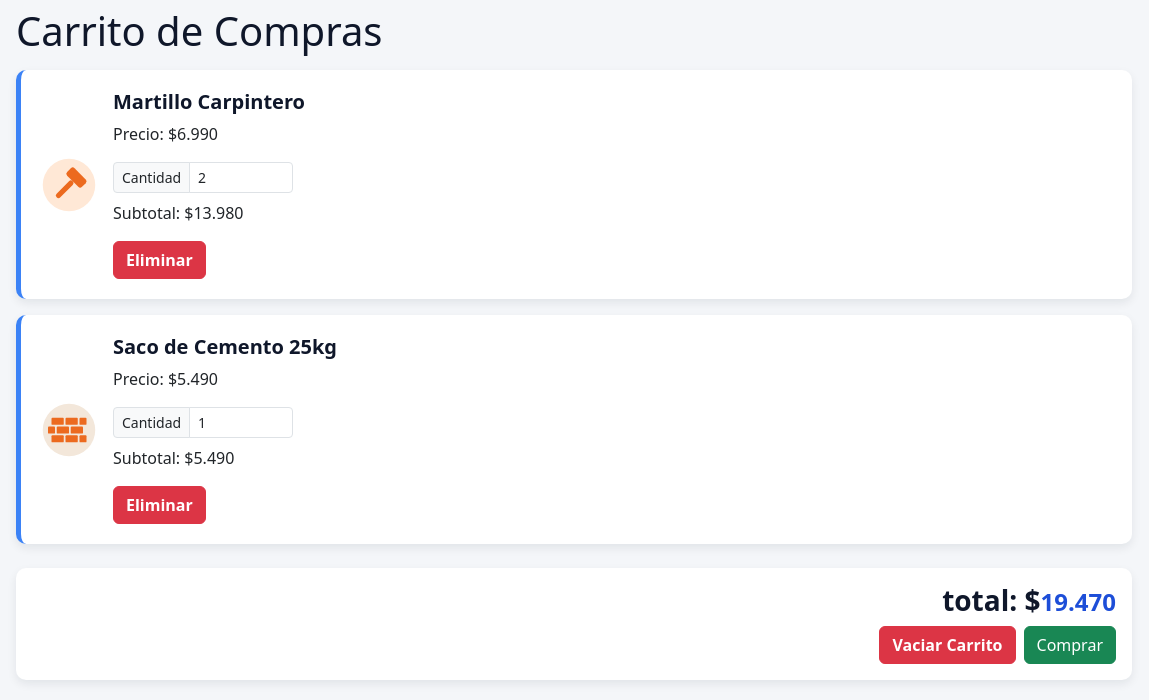
Carrito › vaciar el carrito muestra el mensaje de carrito vacío y borra lo guardado
What coordinates should you click on to do the following:
click the button "Vaciar Carrito"
I would click on:
 (948, 645)
Its box is [880,626,1016,664].
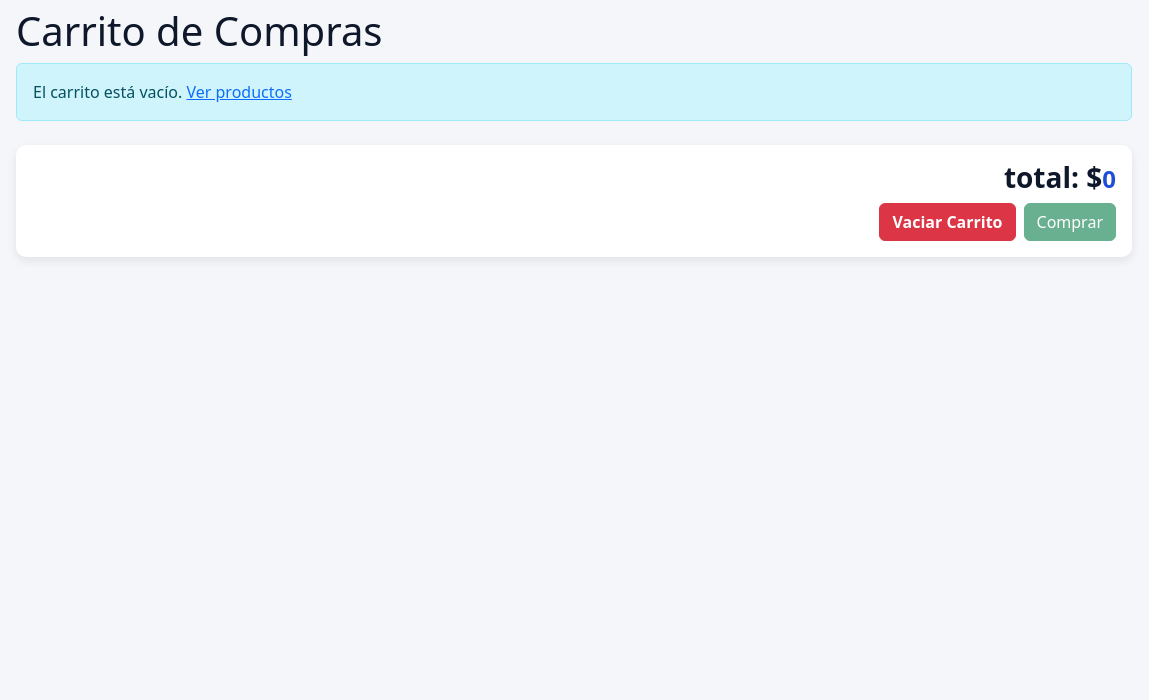
expect the text "El carrito está vacío. Ver productos" is shown: met, box [16,63,1132,121]
